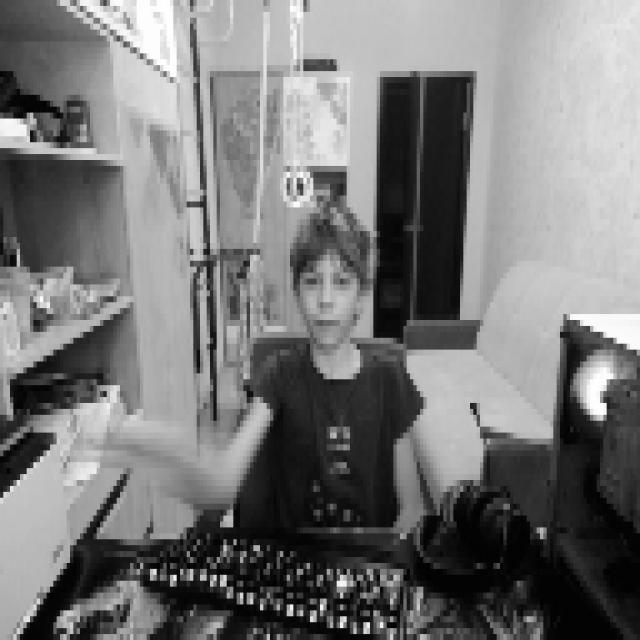hand: (80, 409, 203, 486)
